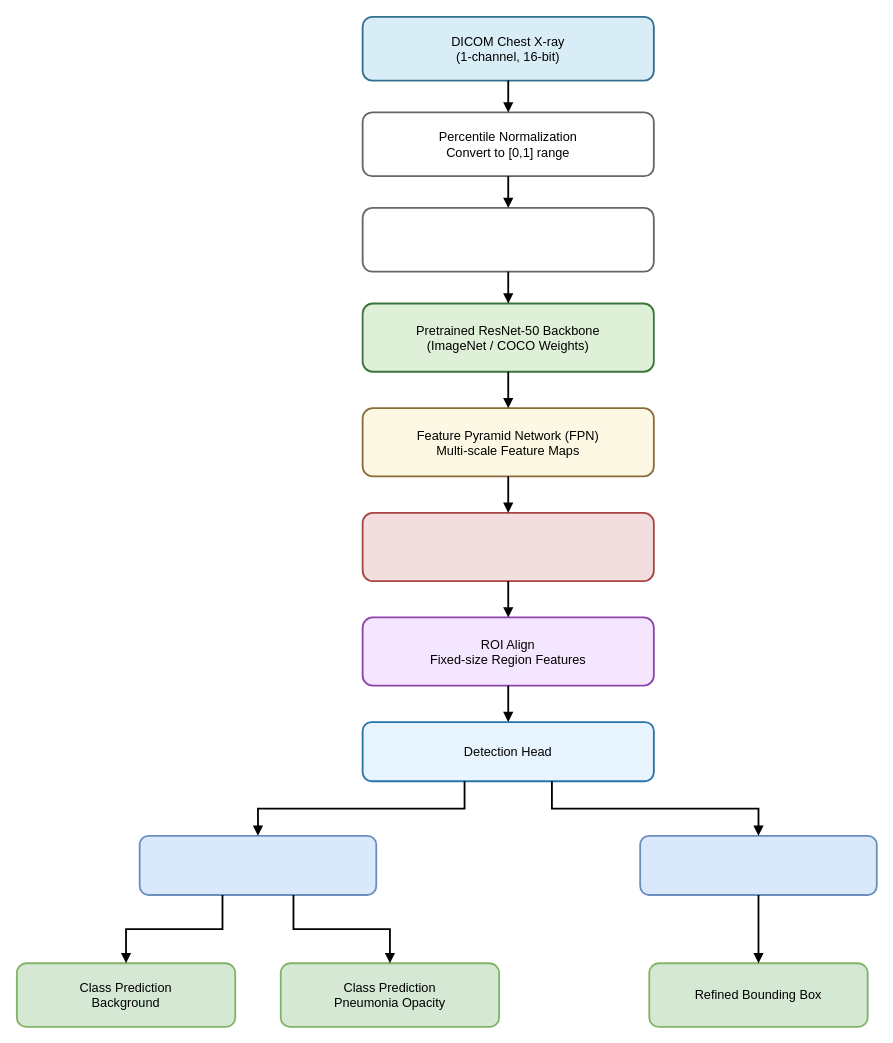
This 893x1043 diagram has some shape labels left out. Each missing label, with the centre of its shape:
Box Classifier: pixel 257 864
Box Regressor: pixel 758 864
Region Proposal Network (RPN) Generate Candidate Regions: pixel 507 546
Replicate Channel 1 → 3 Channels: pixel 507 239
